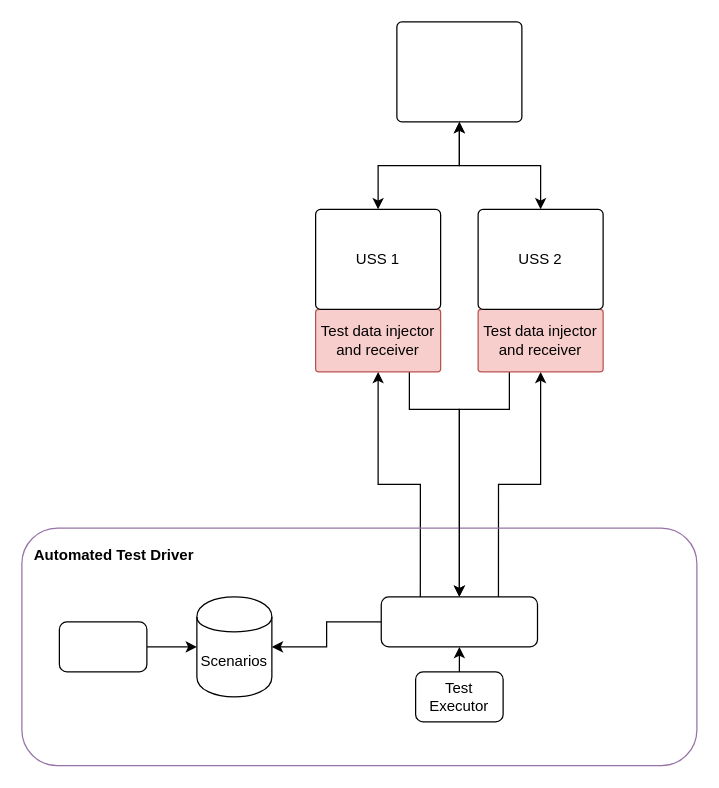
This 719x788 diagram has some shape labels left out. The box of each missing label's shape, as (x1, y1, x2, y2) in pixels:
DSS: (396, 21, 522, 122)
Scenario Player and Evaluator: (380, 596, 538, 647)
Simulator: (58, 621, 147, 672)
